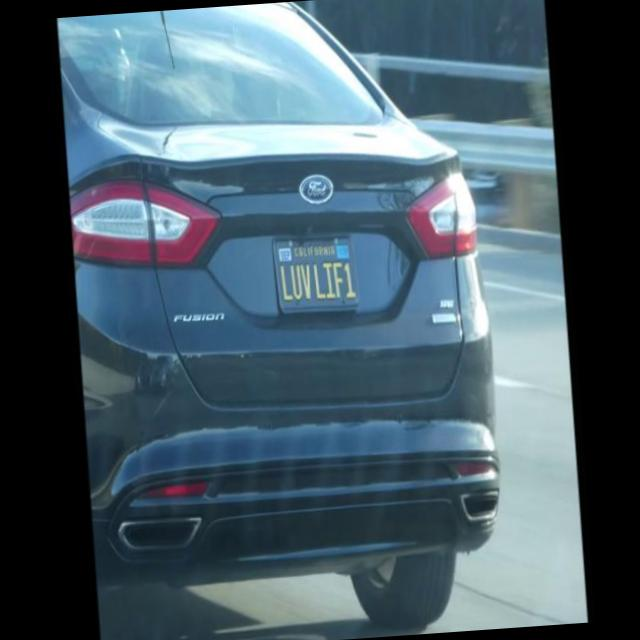LicensePlate: (271, 226, 360, 310)
